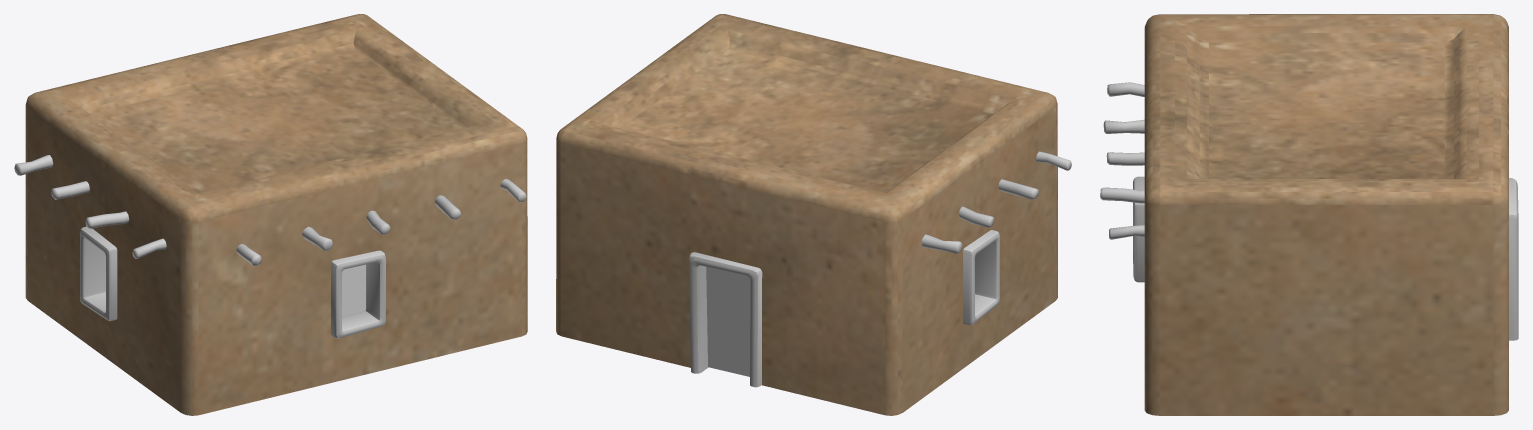
The model's file is Type1_2.fbx.
3 renders of one model, left to right at view 1: azimuth 30°, elevation 25°; view 2: azimuth 150°, elevation 25°; view 3: azimuth 270°, elevation 25°, orthographic. The views are drawn at different scales.
Visible parts, largest first — view 1: MAINWALL.002, WOODENPARTS.009, parallaxwindow.007; view 2: MAINWALL.002, WOODENPARTS.009, DOOR.012; view 3: MAINWALL.002, WOODENPARTS.009.
Part boxes in pixels (<box>): MAINWALL.002: <box>25,14,527,415</box>; WOODENPARTS.009: <box>14,155,526,338</box>; parallaxwindow.007: <box>342,264,365,316</box>; MAINWALL.002: <box>556,14,1057,415</box>; WOODENPARTS.009: <box>689,151,1071,387</box>; DOOR.012: <box>706,267,750,376</box>; MAINWALL.002: <box>1144,14,1508,415</box>; WOODENPARTS.009: <box>1100,82,1518,340</box>.
Bounding box in the file's own units: 754 × 387 × 655.
